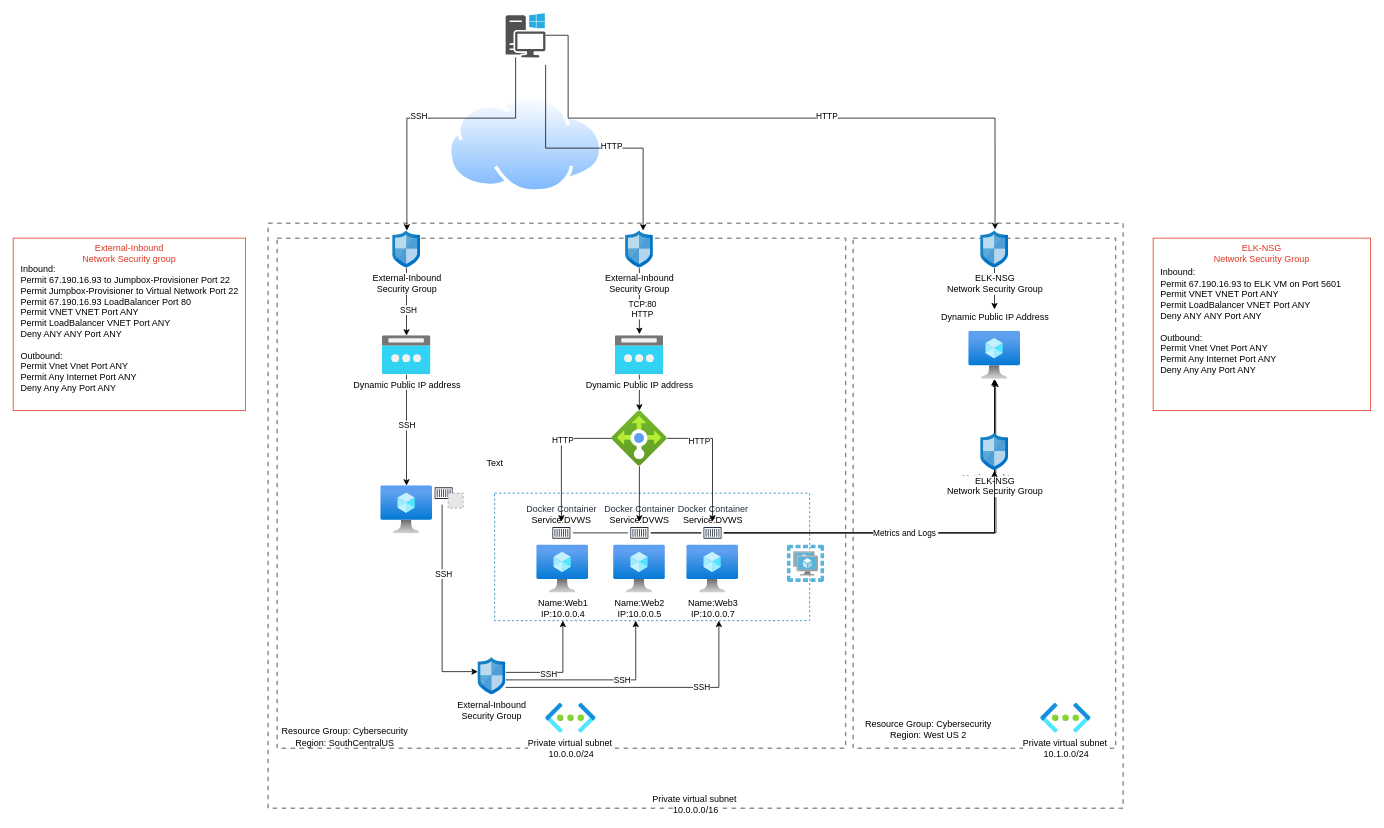
This 1384x828 diagram has some shape labels left out. Grey dashed boxes stand in for pictures. The centre of each missing label's shape, as x and y in pixels:
"Docker Container Service:Ansible" goes at point 443,492.
"Home Network IP:67.190.16.93" goes at point 525,35.
"LoadBalancer" goes at point 639,438.
"Name:ELK IP:10.1.0.4" goes at point 994,355.
"Name:Jumpbox-Provisioner IP:10.0.0.6" goes at point 406,509.
"Web-Set Availability Set Checking HTTP Availability of Web Services" goes at point 805,563.
